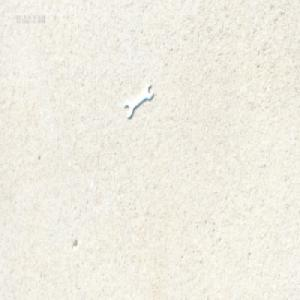Wrench: (124, 83, 155, 119)
